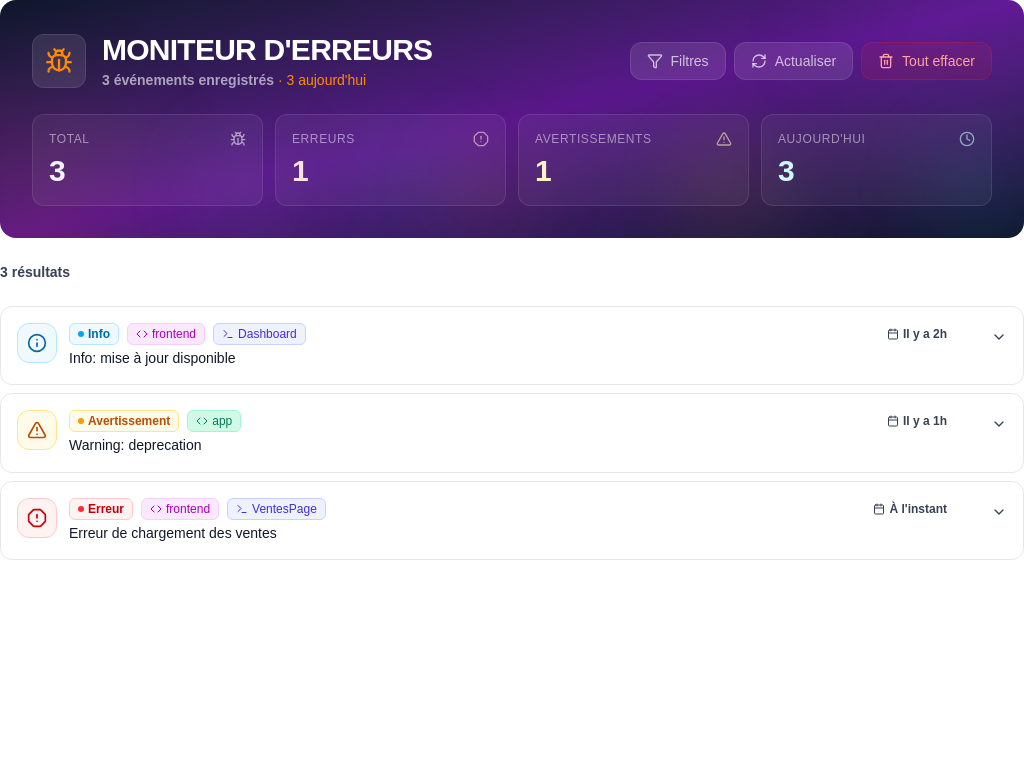
it: ErrorsPage › développe les détails d une erreur au clic
This screenshot has width=1024, height=768.
Click the text "Erreur de chargement des ventes".
click(173, 532)  # box [69,524,277,540]
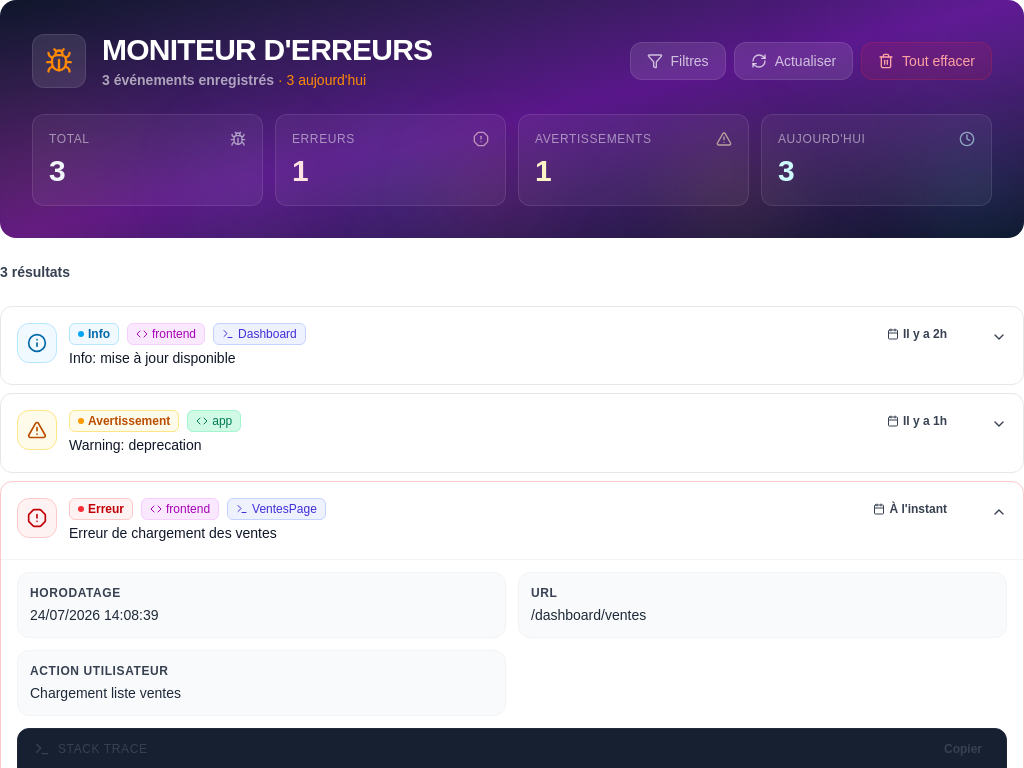
expect the text "Horodatage" is shown: met, box [30,586,121,600]
expect the text "Stack Trace" is shown: met, box [58,741,148,757]
expect the text "URL" is shown: met, box [531,586,558,600]
